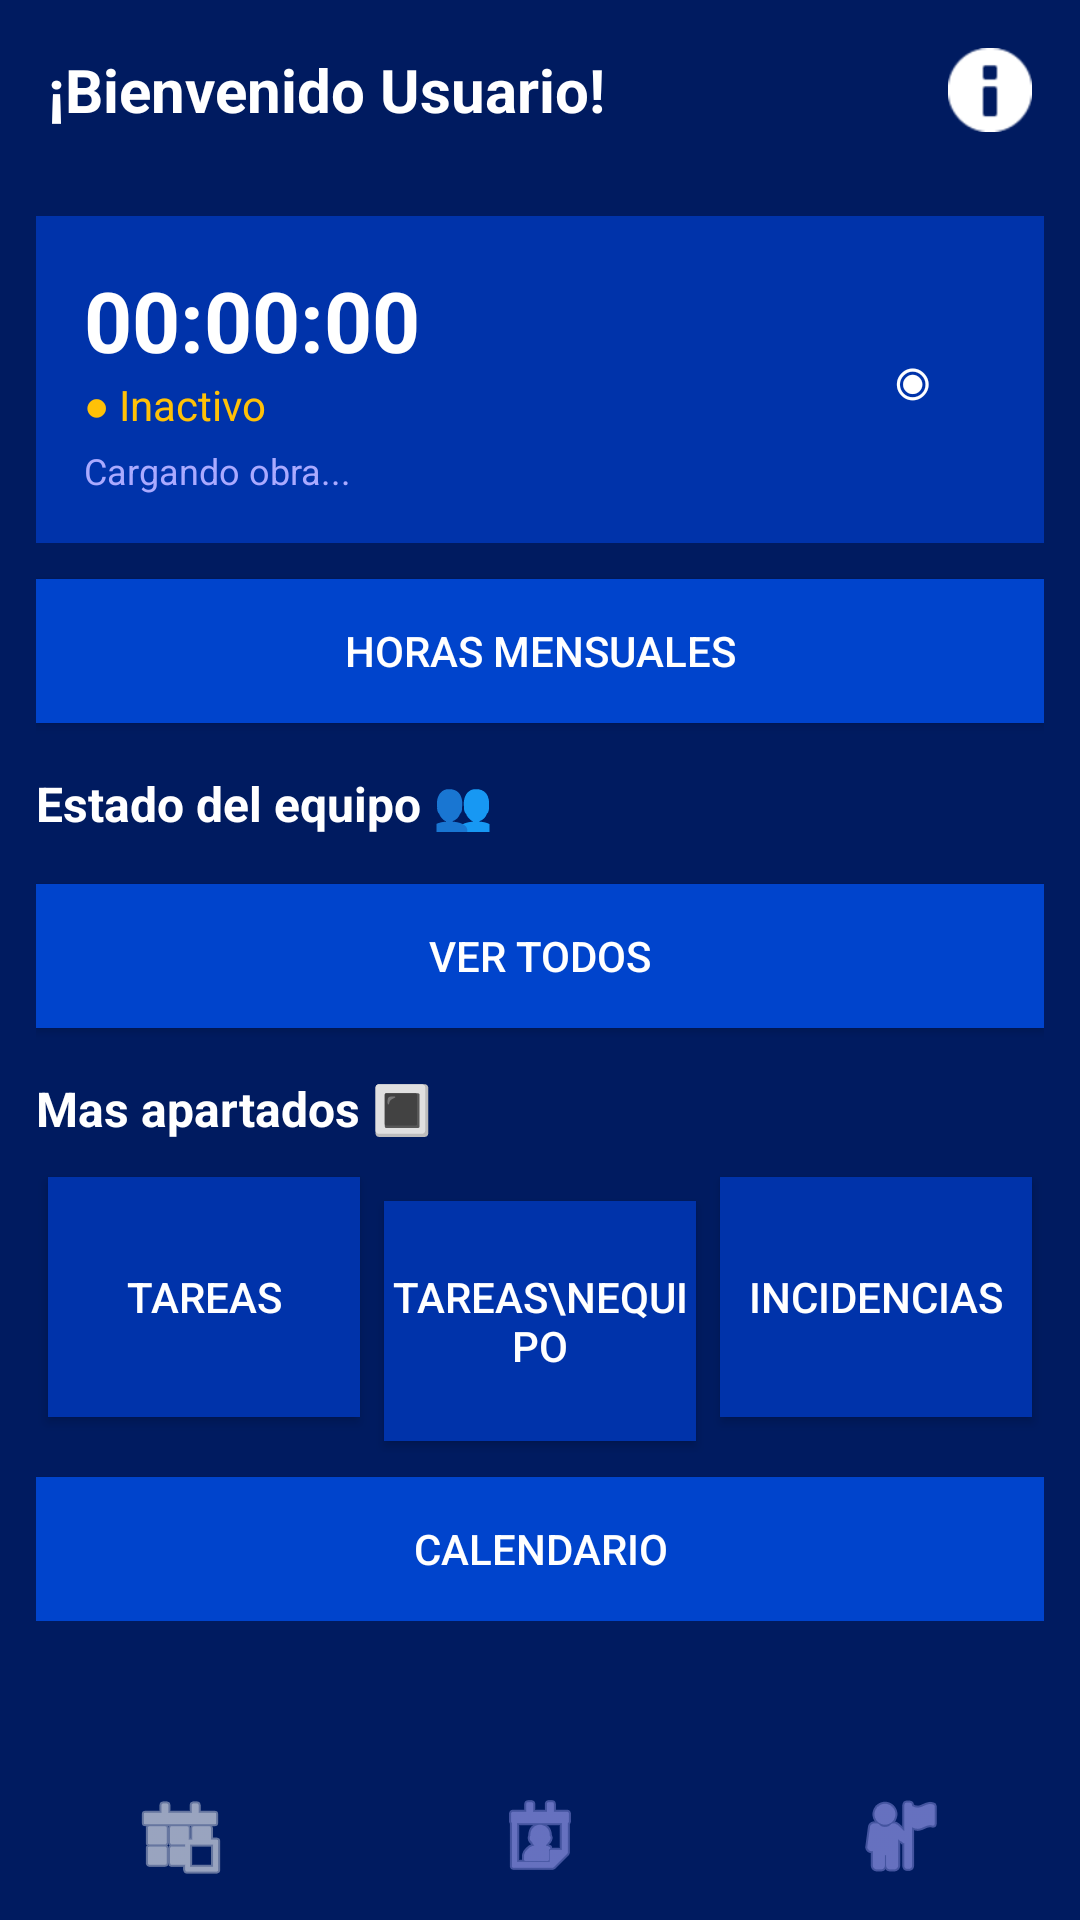

Icon click points for this 1080px×1920px phone screenshot, format point (x, y):
info: point (990, 90)
